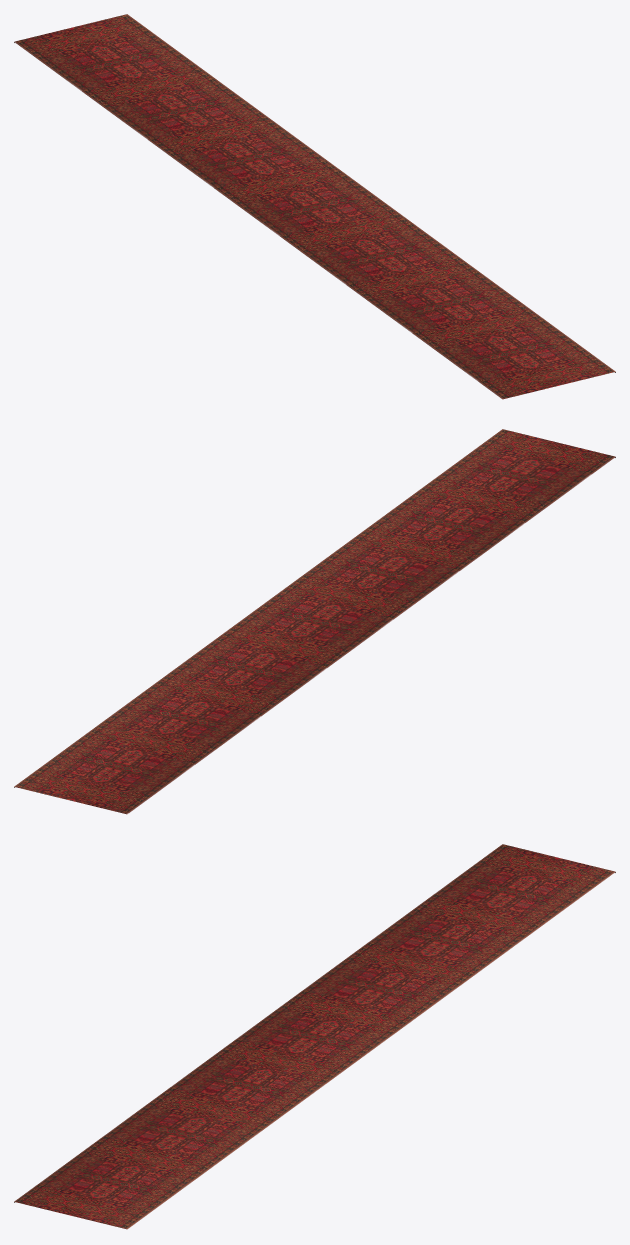
Rendered from kabul-runner-rost.glb.
3 views of the same model, one above another, from view 1: azimuth 30°, elevation 25°; view 2: azimuth 150°, elevation 25°; view 3: azimuth 330°, elevation 25° (orthographic).
Parts seen in each view (by area): view 1: rug; view 2: rug; view 3: rug.
Part boxes in pixels (box(x1,y1,x2,y2)): rug: box(14, 14, 615, 399); rug: box(14, 429, 615, 814); rug: box(14, 844, 615, 1229).
Bounding box in the file's own units: 0.67 × 0.0113 × 5.
Materials: 4 (3 with a texture image).
